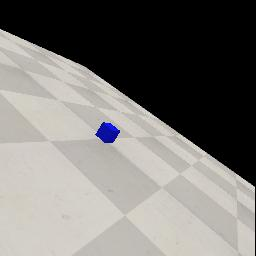box: (95, 122, 120, 143)
